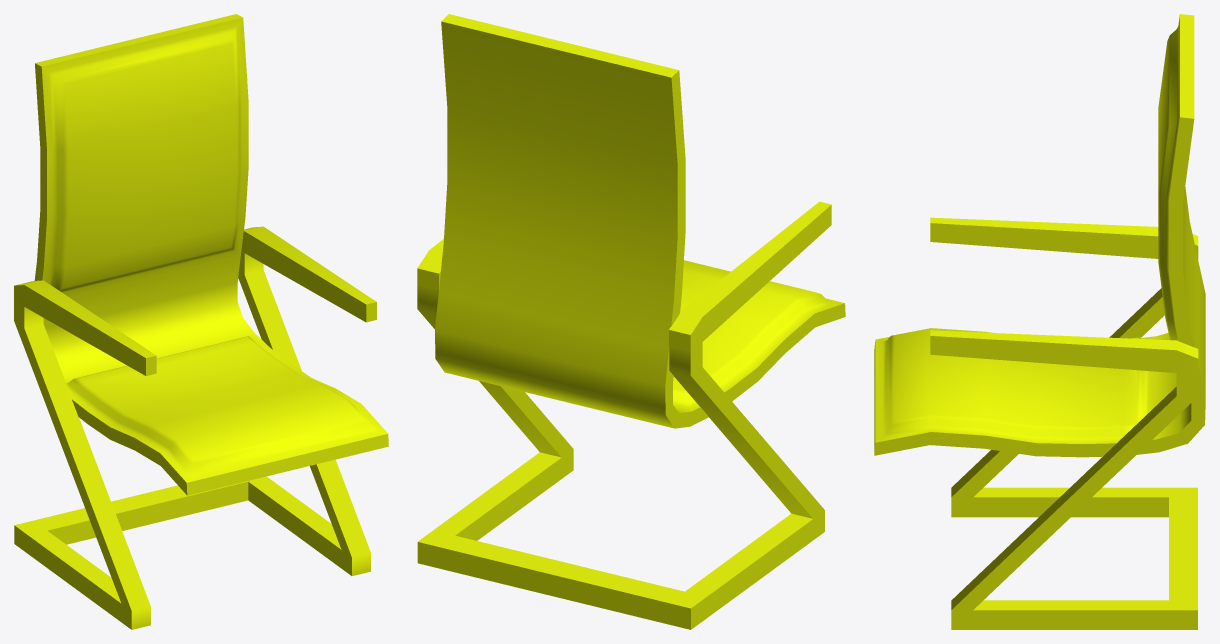
File: Chair3.FBX
3 views of the same model, side by side, from view 1: azimuth 30°, elevation 25°; view 2: azimuth 150°, elevation 25°; view 3: azimuth 270°, elevation 25° (orthographic). The views are drawn at different scales.
Parts seen in each view (by area): view 1: Line002; view 2: Line002; view 3: Line002.
Boxes of the visible parts, left/top/right/bottom form: Line002: left=14, top=14, right=388, bottom=629; Line002: left=417, top=14, right=845, bottom=629; Line002: left=874, top=14, right=1205, bottom=629.
Size of the model in its own units: 0.7683 by 1.47 by 0.8783.
